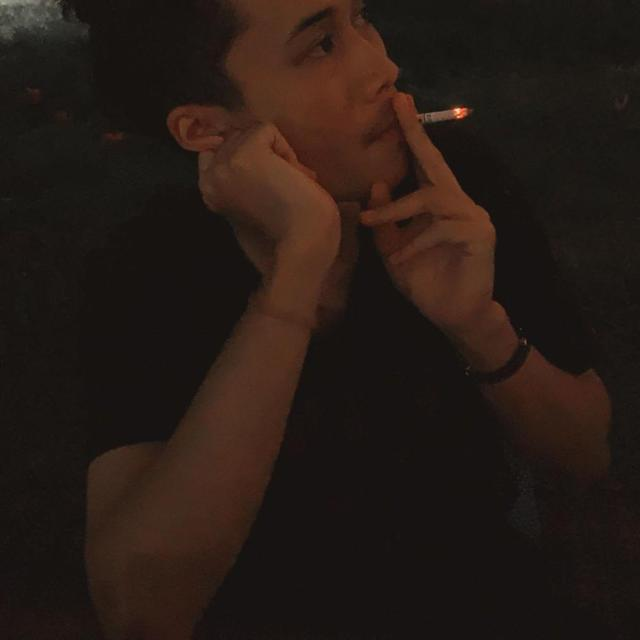rokok: (417, 102, 477, 128)
